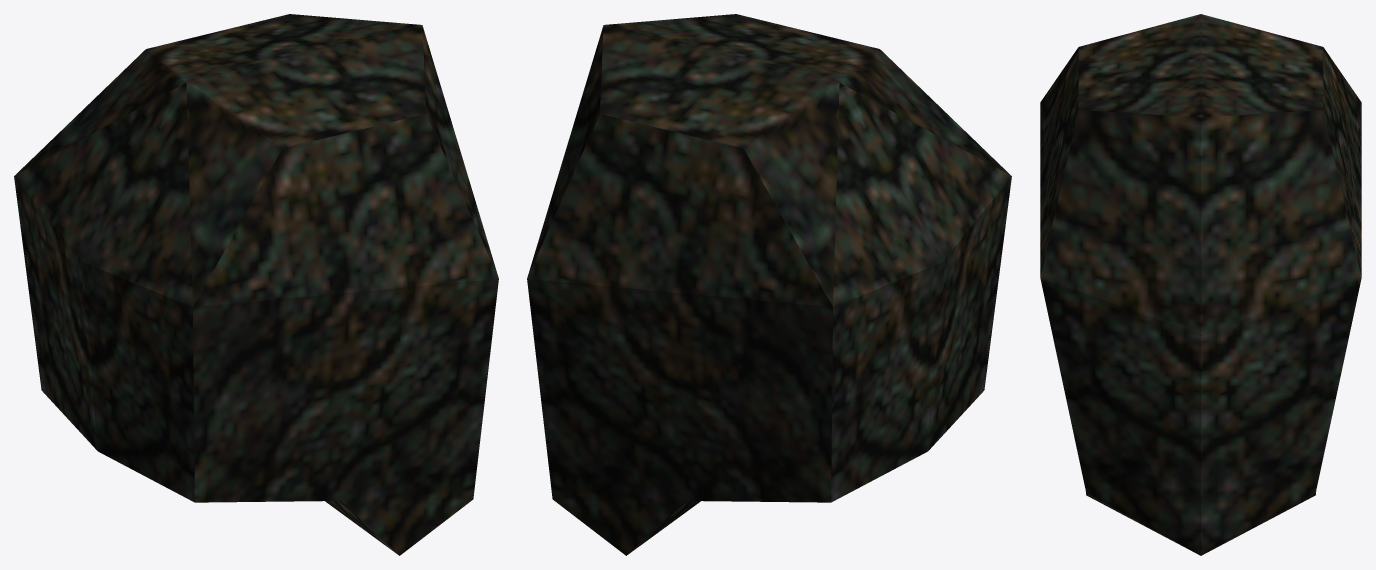
File: skull2.obj
3 renders of one model, left to right at view 1: azimuth 30°, elevation 25°; view 2: azimuth 150°, elevation 25°; view 3: azimuth 270°, elevation 25°, orthographic. The views are drawn at different scales.
Visible parts, largest first — view 1: entity3_brush0, entity3_brush1, entity2_brush1, entity2_brush0, entity3_brush2; view 2: entity2_brush0, entity2_brush1, entity3_brush1, entity3_brush0, entity2_brush2; view 3: entity2_brush1, entity3_brush1, entity2_brush0, entity3_brush0.
Boxes of the visible parts, left/top/right/bottom form: entity3_brush0: left=83, top=262, right=498, bottom=502; entity3_brush1: left=83, top=25, right=498, bottom=306; entity2_brush1: left=14, top=14, right=421, bottom=261; entity2_brush0: left=14, top=176, right=97, bottom=450; entity3_brush2: left=327, top=499, right=472, bottom=555; entity2_brush0: left=527, top=262, right=942, bottom=502; entity2_brush1: left=527, top=25, right=942, bottom=306; entity3_brush1: left=604, top=14, right=1011, bottom=261; entity3_brush0: left=928, top=176, right=1011, bottom=450; entity2_brush2: left=553, top=499, right=698, bottom=555; entity2_brush1: left=1201, top=14, right=1361, bottom=333; entity3_brush1: left=1040, top=14, right=1200, bottom=333; entity2_brush0: left=1201, top=278, right=1361, bottom=555; entity3_brush0: left=1040, top=278, right=1200, bottom=555.
Size of the model in its own units: 6.62 by 7.5 by 5.25.
